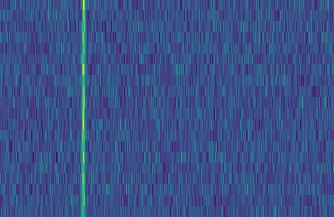signal: (76, 0, 85, 217)
